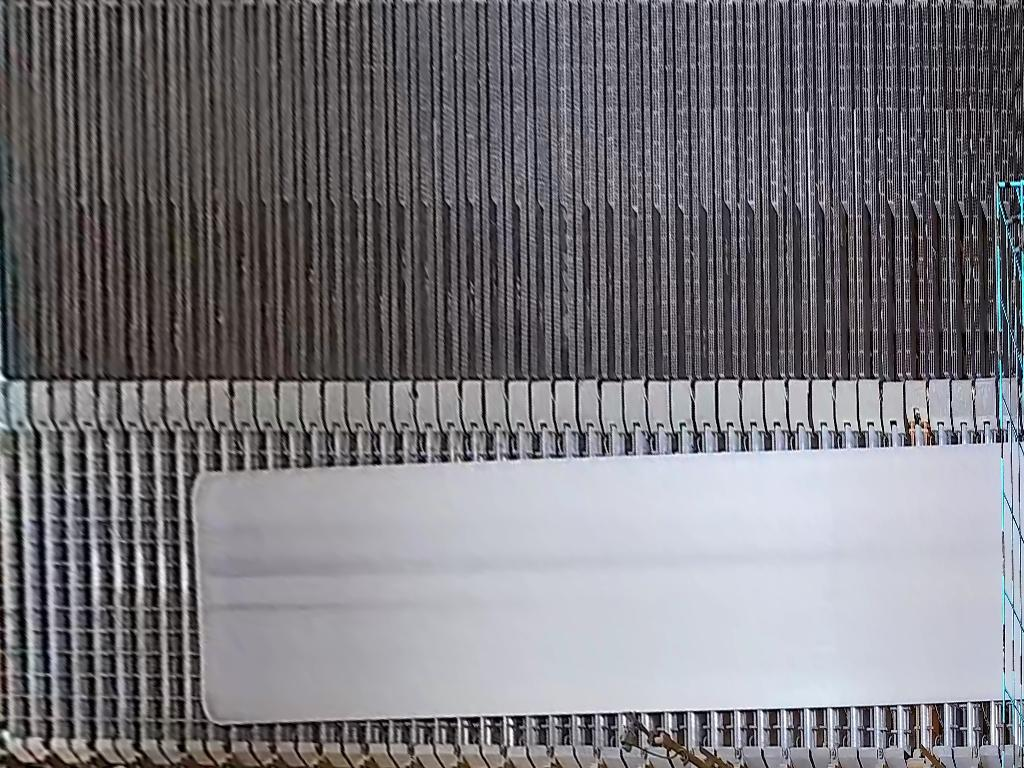steel: (192, 439, 1024, 725)
